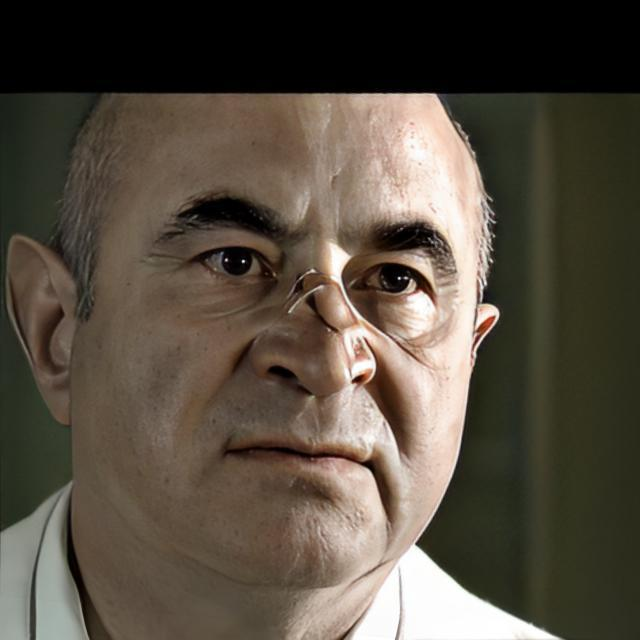anger: (85, 96, 475, 587)
